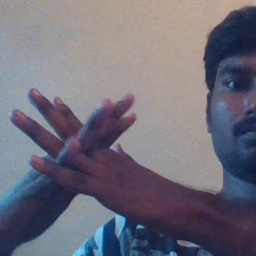W: (8, 76, 146, 223)
